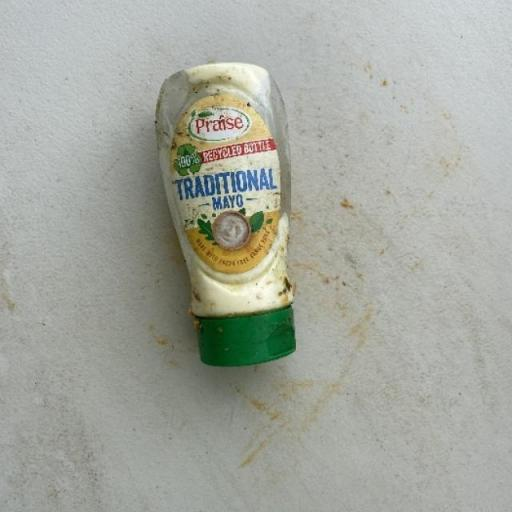plastic: (153, 60, 297, 367)
